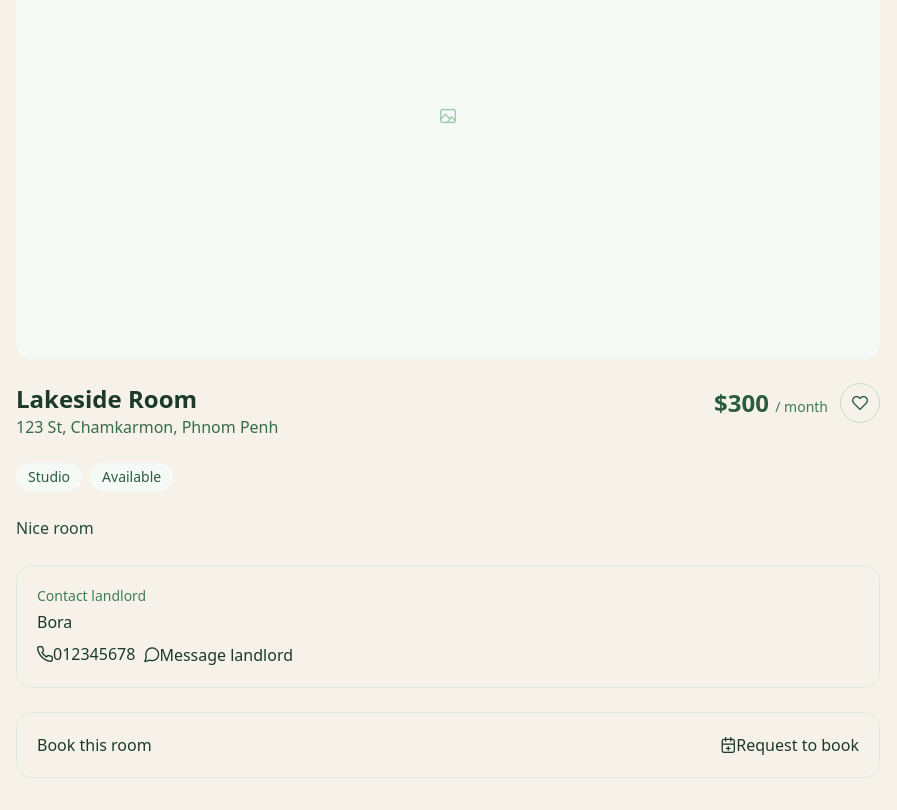
it: RoomDetailView › surfaces booking validation errors from a 422 response without crashing (Phase 4 API-shape regression)
The width and height of the screenshot is (897, 810).
(page scrolled)
Click the button "Request to book".
click(790, 745)  # box [720,733,859,757]
(page scrolled)
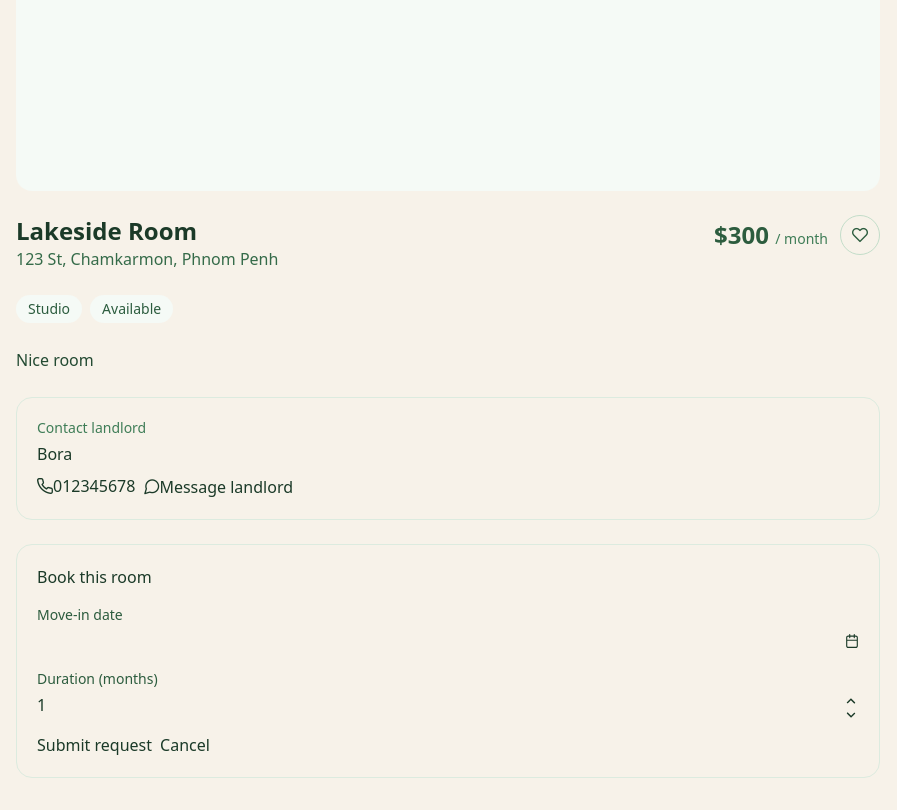
Submit the form, box [37,605,859,757]
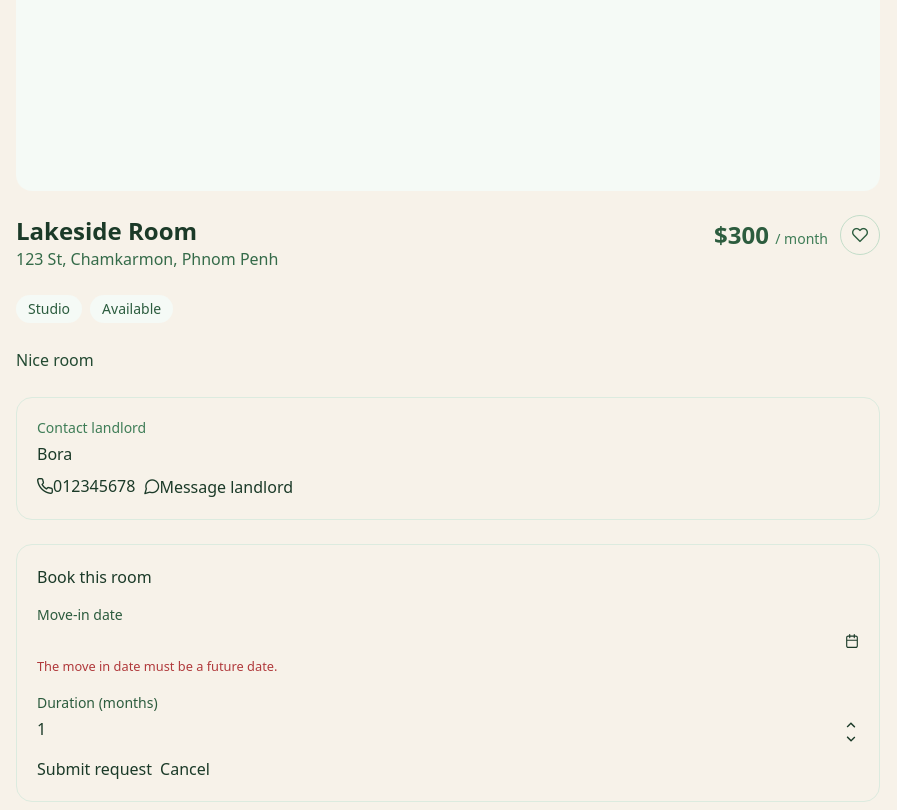
Check: the text "The move in date must be a future date." is shown, box [37,657,277,675]
